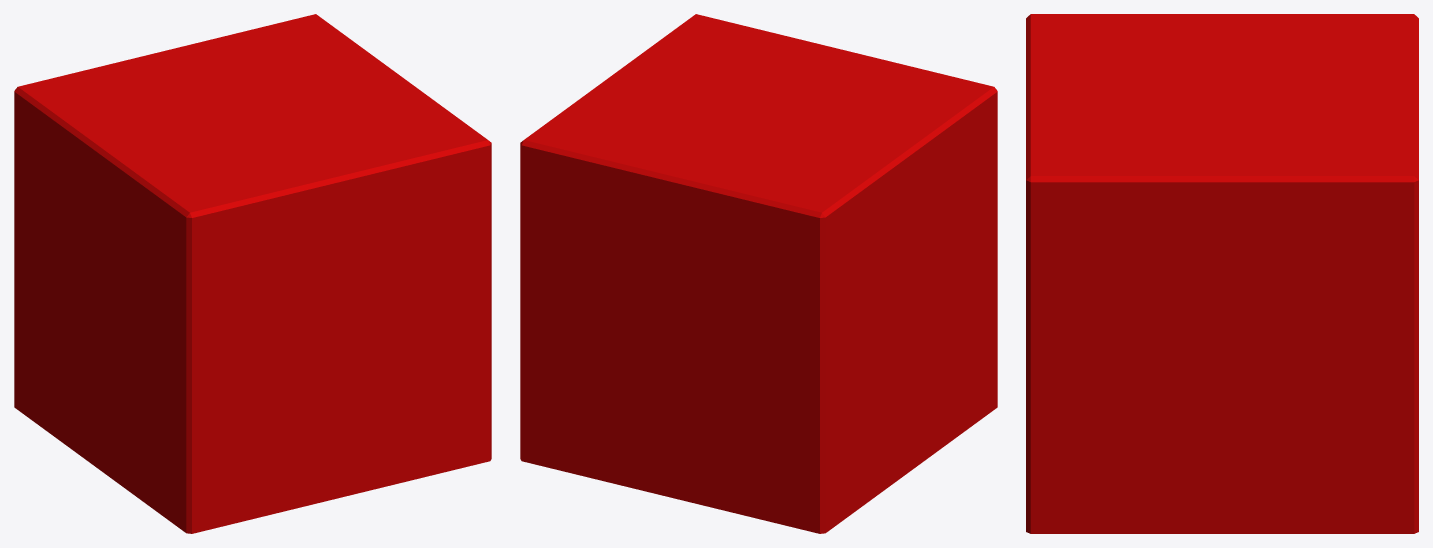
File: SM_Prop_Podium_Glass_01.fbx
3 views of the same model, side by side, from view 1: azimuth 30°, elevation 25°; view 2: azimuth 150°, elevation 25°; view 3: azimuth 270°, elevation 25° (orthographic). The views are drawn at different scales.
Parts seen in each view (by area): view 1: SM_Prop_Podium_Glass_01; view 2: SM_Prop_Podium_Glass_01; view 3: SM_Prop_Podium_Glass_01.
Part boxes in pixels (<box>): SM_Prop_Podium_Glass_01: <box>14,14,491,533</box>; SM_Prop_Podium_Glass_01: <box>520,14,997,533</box>; SM_Prop_Podium_Glass_01: <box>1026,14,1418,533</box>.
Size of the model in its own units: 34.18 by 34.18 by 34.18.
